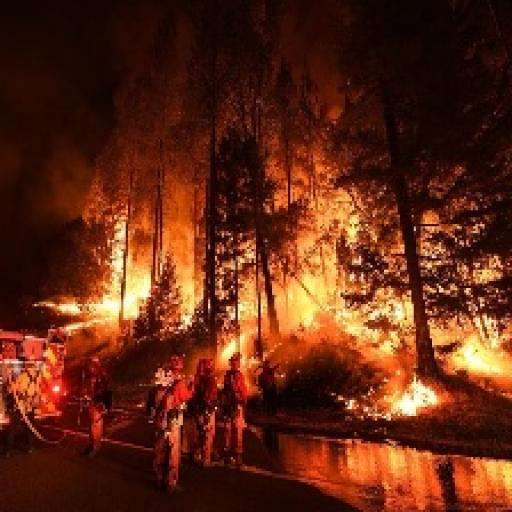fire and smoke: (277, 274, 411, 398), (434, 327, 510, 386), (94, 249, 149, 318), (240, 281, 281, 350), (178, 265, 197, 322)
